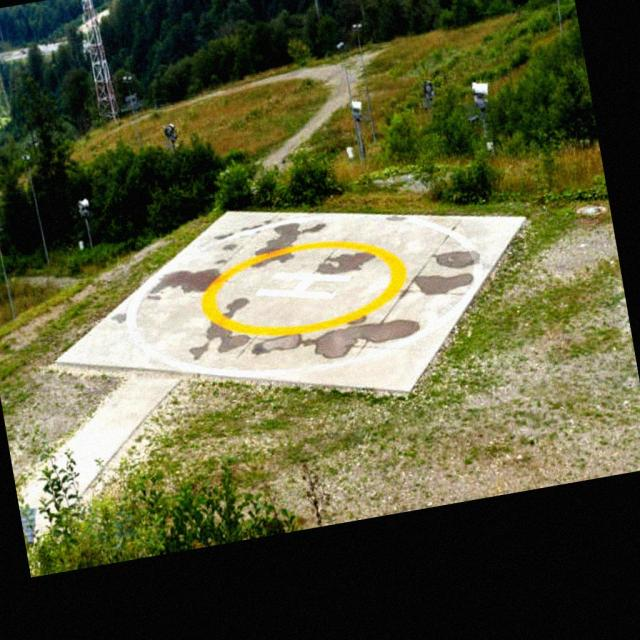helipad: (196, 239, 408, 340)
